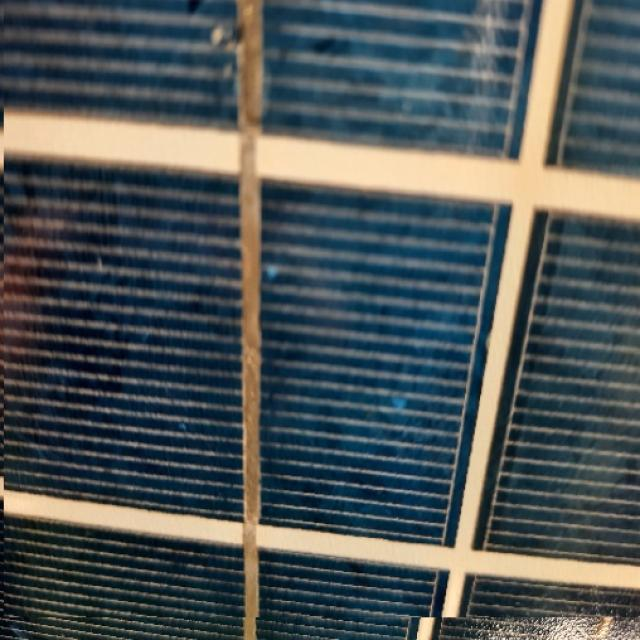Clean: (4, 0, 640, 618)
